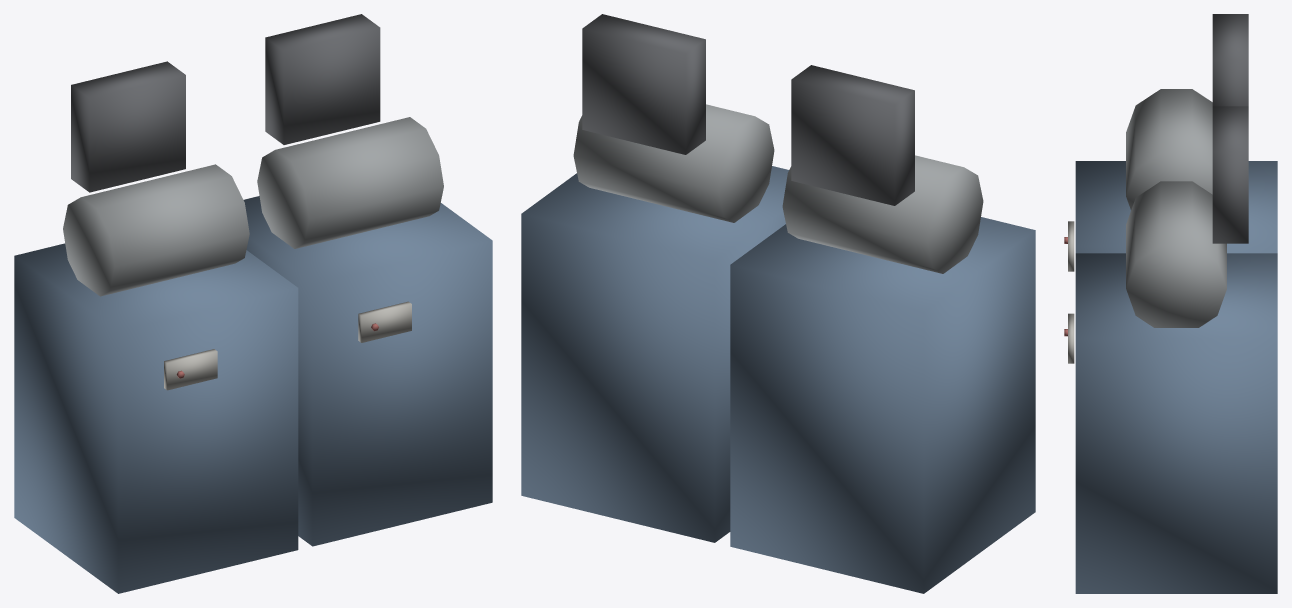
File: wheel_balancer__cluster.glb
3 views of the same model, side by side, from view 1: azimuth 30°, elevation 25°; view 2: azimuth 150°, elevation 25°; view 3: azimuth 270°, elevation 25° (orthographic). The views are drawn at different scales.
Parts seen in each view (by area): view 1: world; view 2: world; view 3: world.
Boxes of the visible parts, x1,y1,x2,y2 form: world: (14, 14, 492, 593); world: (521, 14, 1035, 593); world: (1064, 14, 1277, 593).
Bounding box in the file's own units: 1.16 × 1.29 × 0.591.
